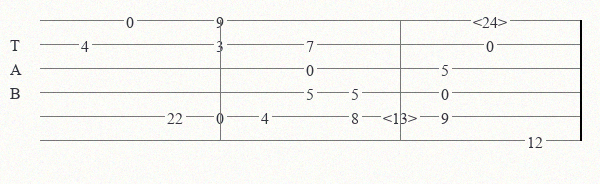0: (126, 13, 138, 28), (216, 109, 228, 124), (306, 61, 318, 76), (441, 85, 453, 100), (486, 37, 498, 52)
12: (527, 133, 547, 148)
22: (167, 109, 187, 124)
3: (216, 37, 228, 52)
4: (81, 37, 93, 52), (261, 109, 273, 124)
5: (306, 85, 318, 100), (351, 85, 363, 100), (441, 61, 453, 76)
7: (306, 37, 318, 52)
8: (351, 109, 363, 124)
9: (216, 13, 228, 28), (441, 109, 453, 124)
harmonic: (383, 109, 421, 124), (473, 13, 511, 28)
